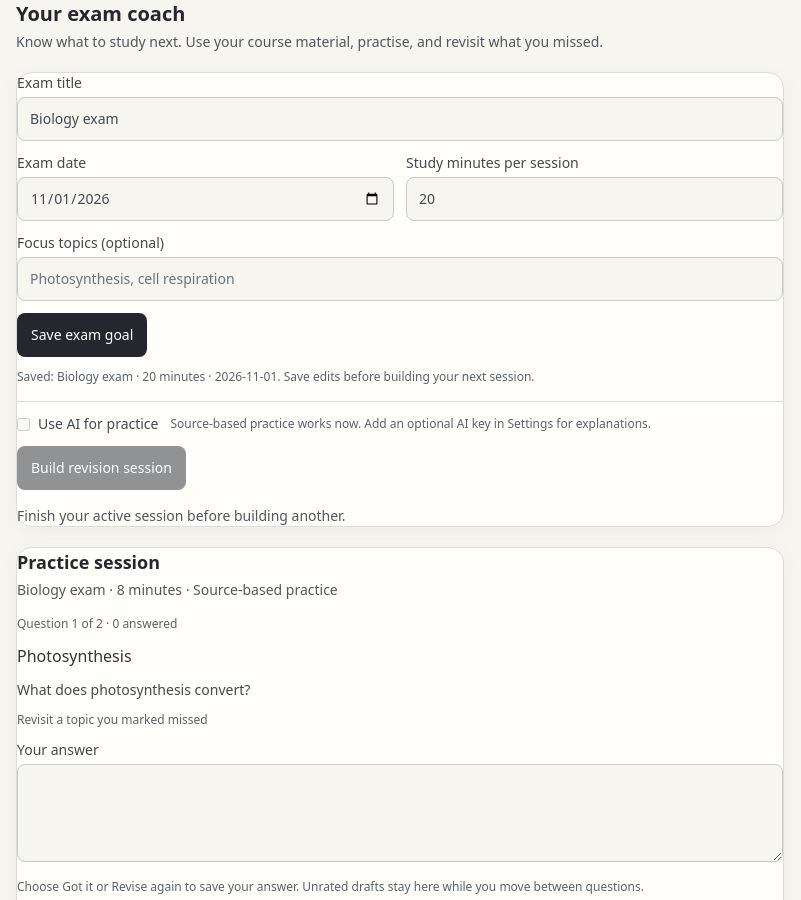
Test: keeps each ungraded answer when moving between practice questions
Type "First draft answer" into the text box labelled "Your answer".
click(400, 813); type("First draft answer")  # box [17, 764, 783, 862]
(page scrolled)
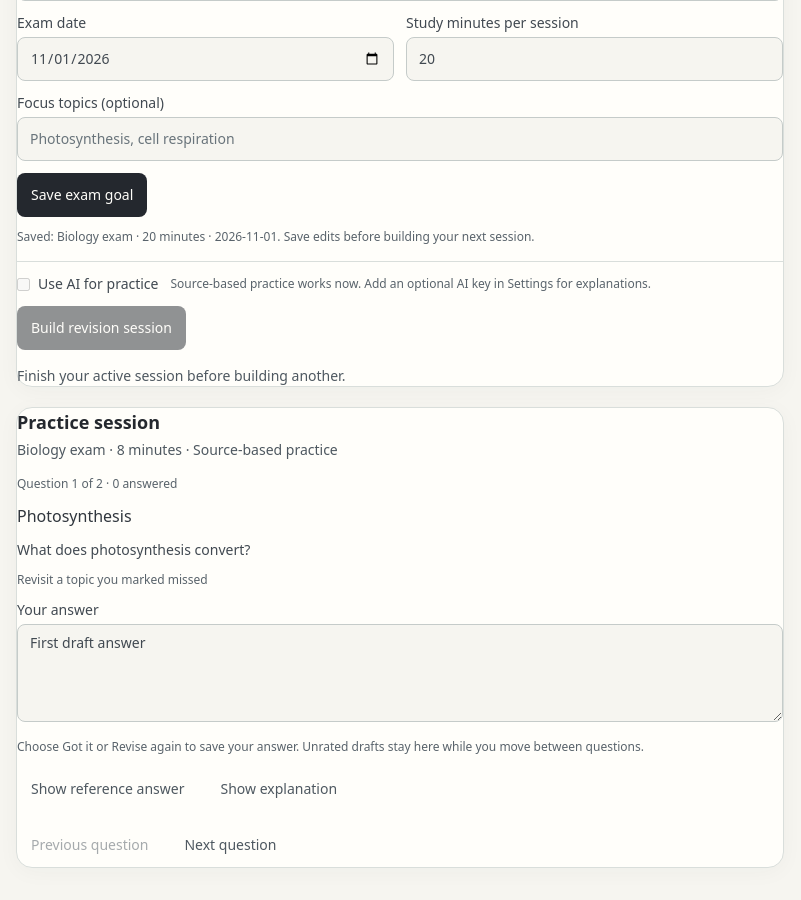
Click the button "Next question".
click(230, 845)  # box [170, 823, 290, 867]
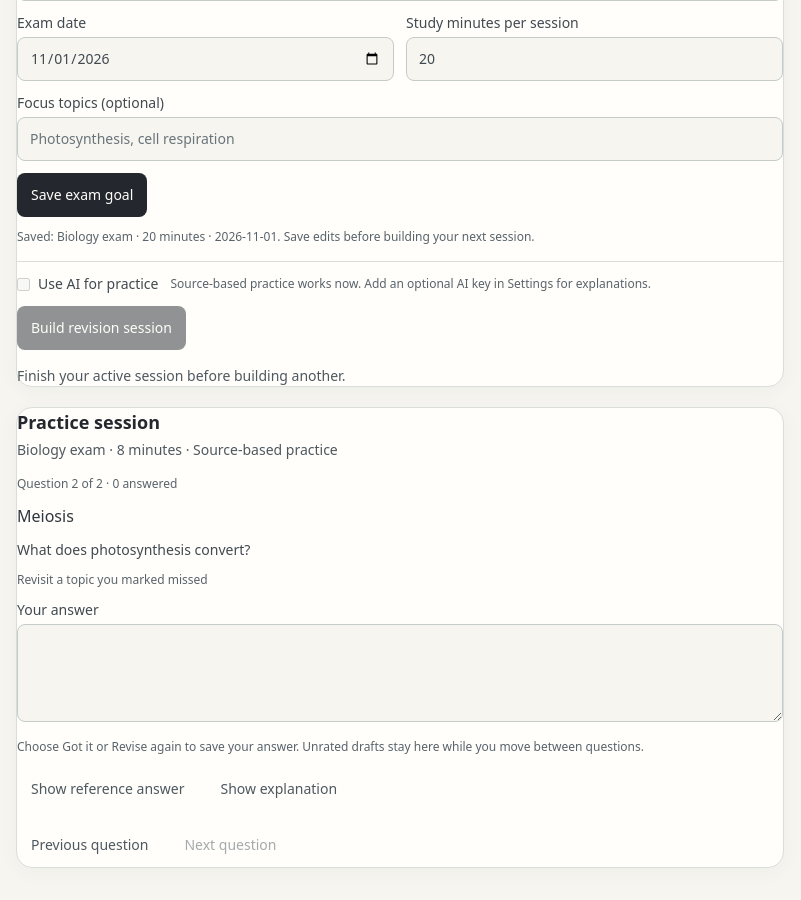
Type "Second draft answer" into the text box labelled "Your answer".
click(400, 673); type("Second draft answer")  # box [17, 624, 783, 722]
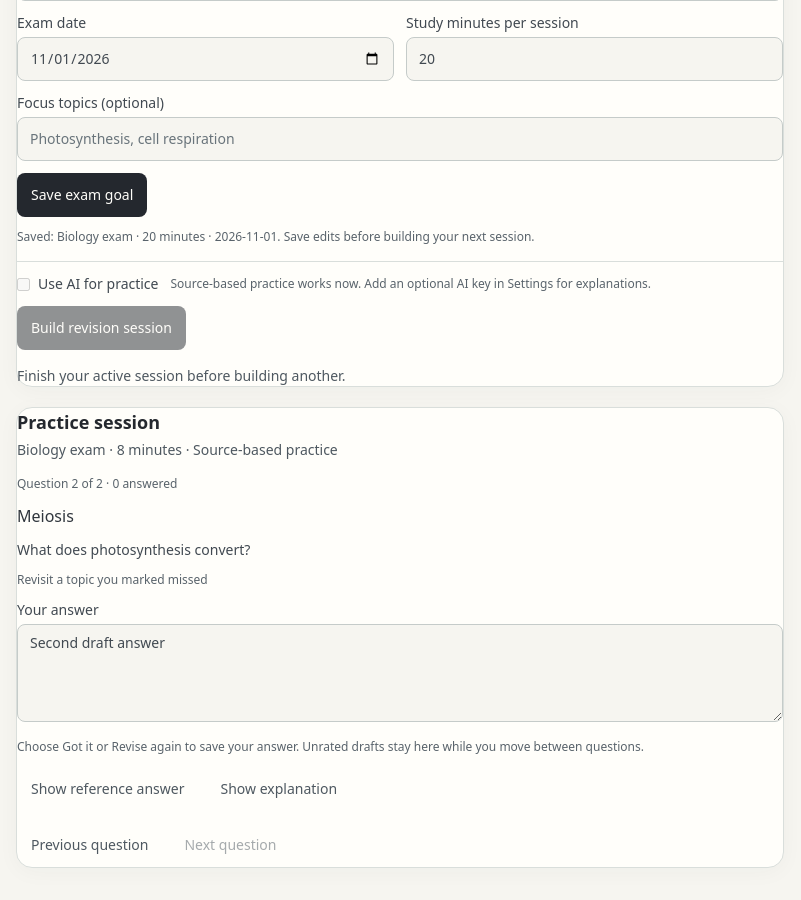
Click the button "Previous question".
click(90, 845)  # box [17, 823, 162, 867]
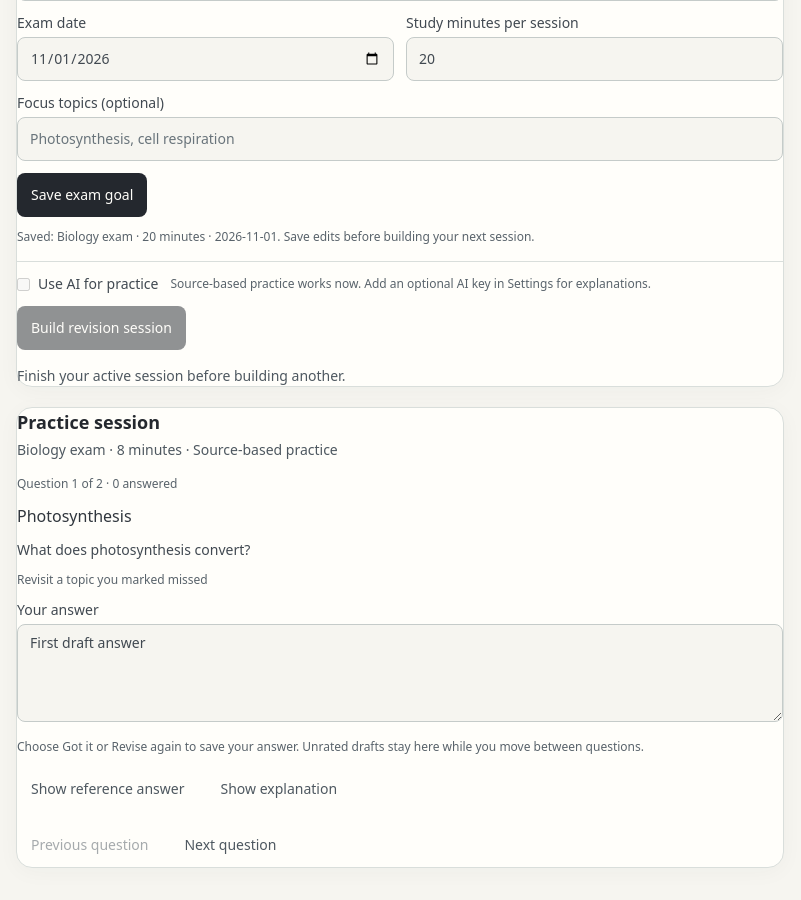
Now the text box labelled "Your answer" holds "First draft answer", box [17, 624, 783, 722]
Click the button "Next question".
click(230, 845)  # box [170, 823, 290, 867]
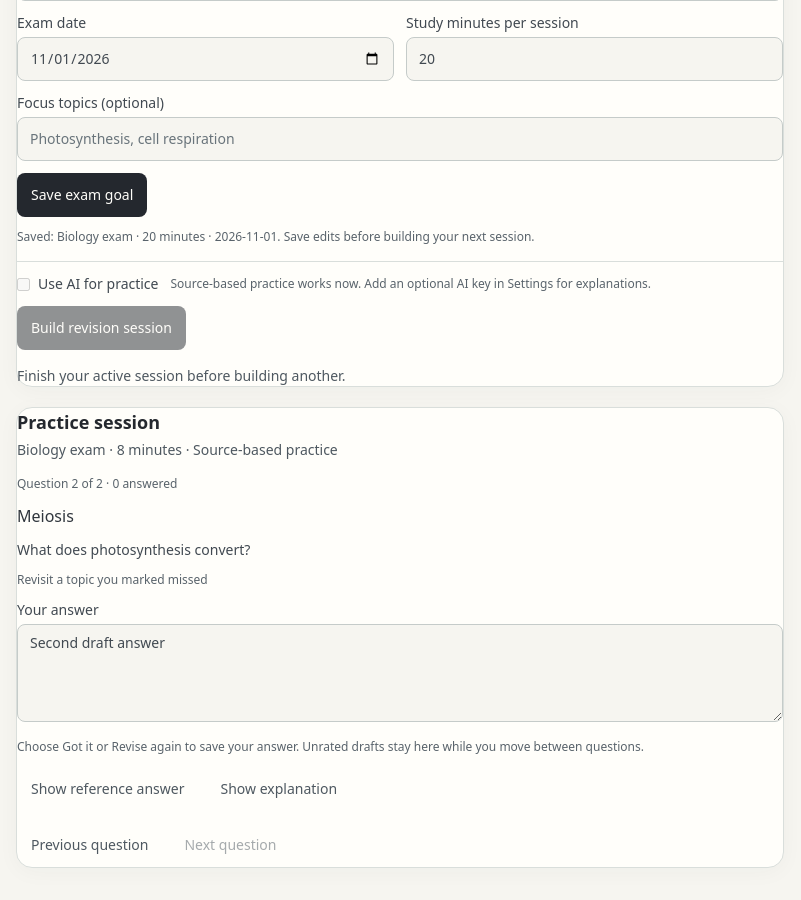
Now the text box labelled "Your answer" holds "Second draft answer", box [17, 624, 783, 722]
